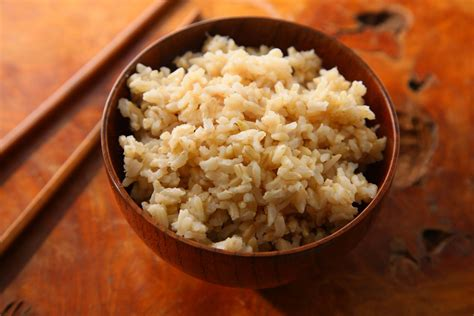rice: (124, 43, 386, 226)
